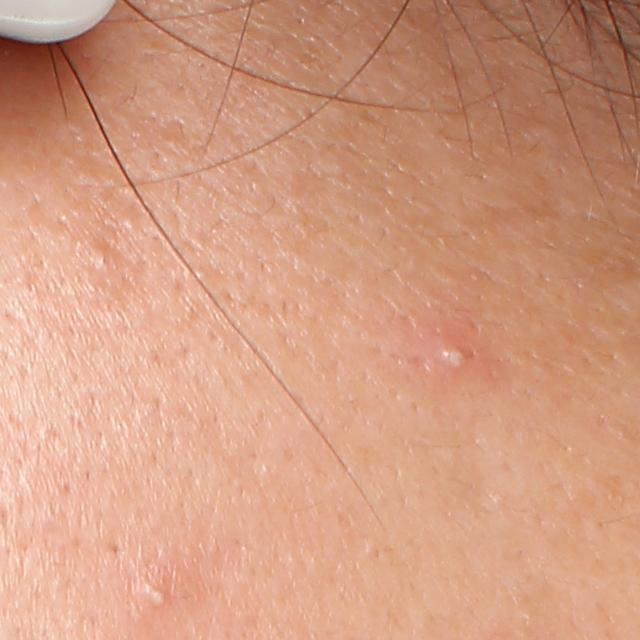comedo: (89, 242, 115, 273)
pustule: (422, 326, 478, 376), (140, 581, 170, 615)
